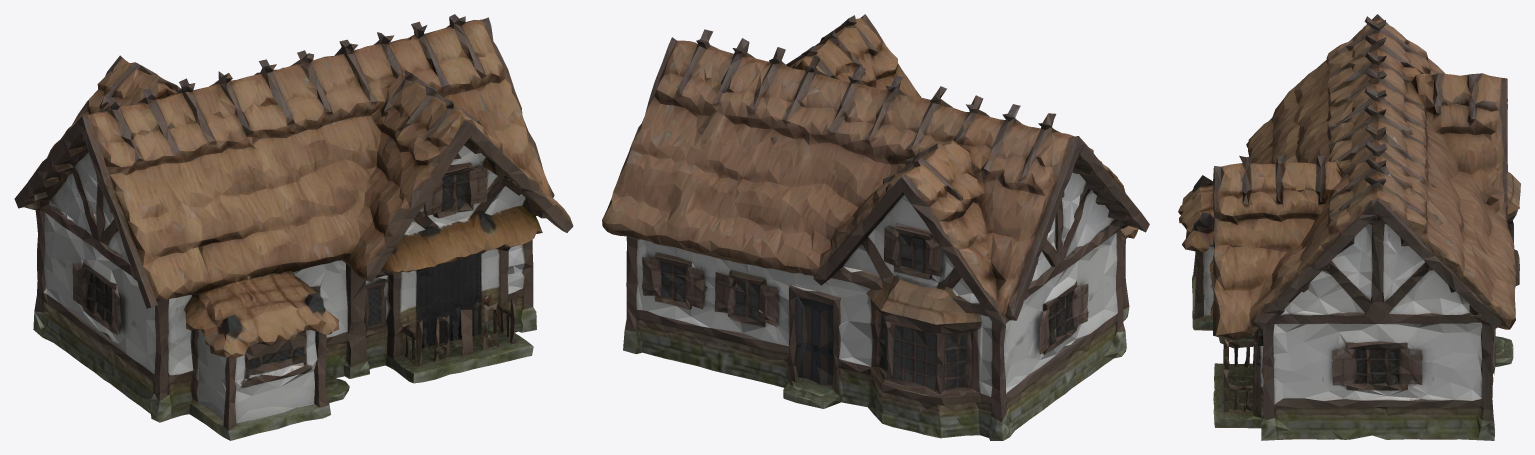
The model's file is thatched_cottage.glb.
3 renders of one model, left to right at view 1: azimuth 30°, elevation 25°; view 2: azimuth 150°, elevation 25°; view 3: azimuth 270°, elevation 25°, orthographic. The views are drawn at different scales.
Visible parts, largest first — view 1: m; view 2: m; view 3: m.
Boxes of the visible parts, bbox=[...] form: m: bbox=[14, 14, 573, 440]; m: bbox=[602, 14, 1149, 440]; m: bbox=[1178, 14, 1520, 440].
Size of the model in its own units: 10.05 by 6.5 by 7.78.
Materials: 1 (1 with a texture image).
